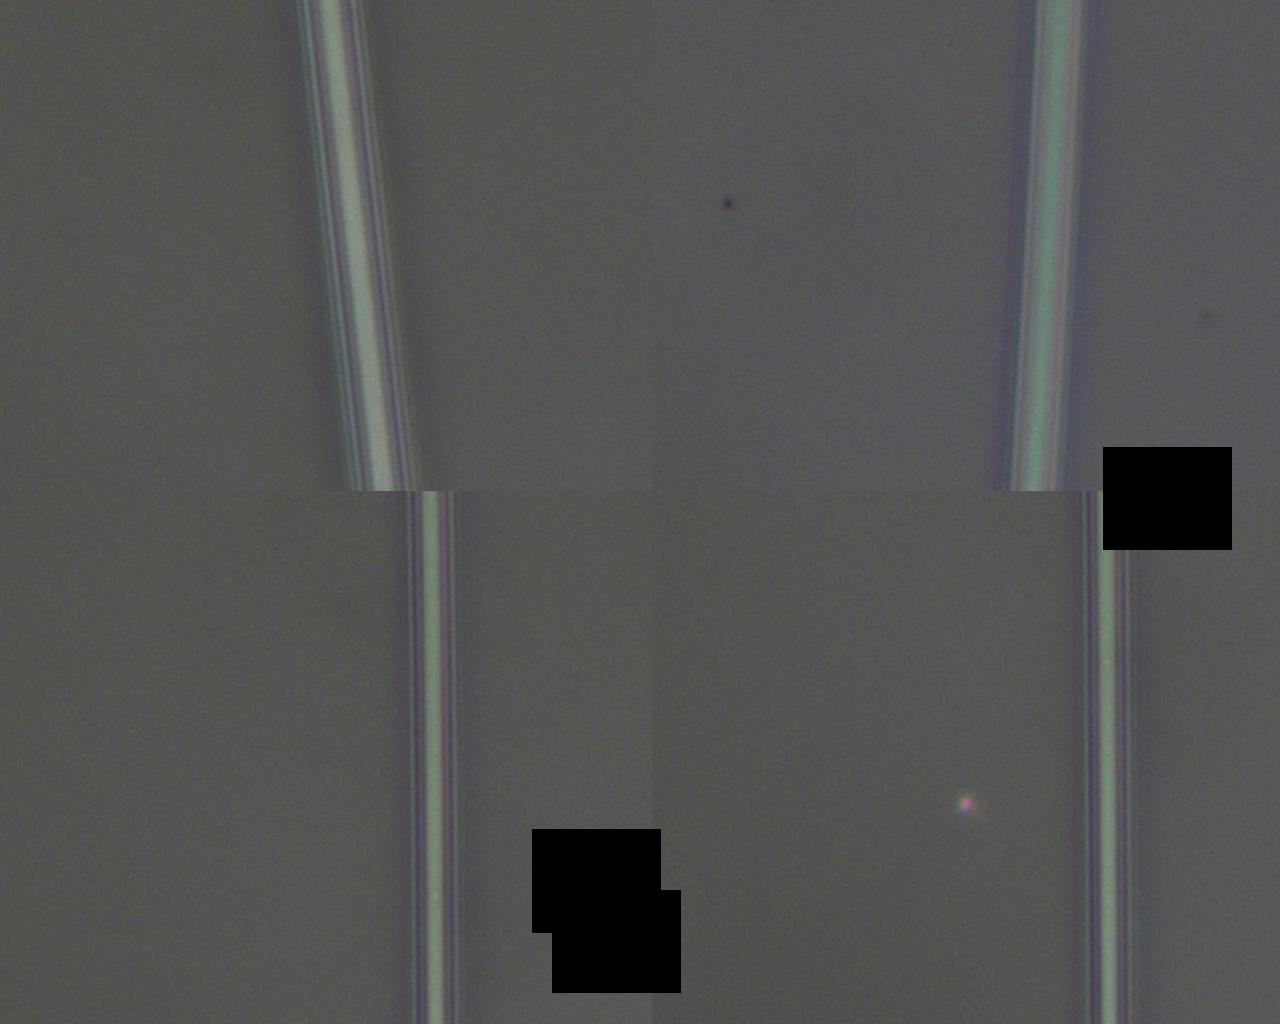fiber: (70, 0, 535, 450), (0, 450, 130, 1024)
